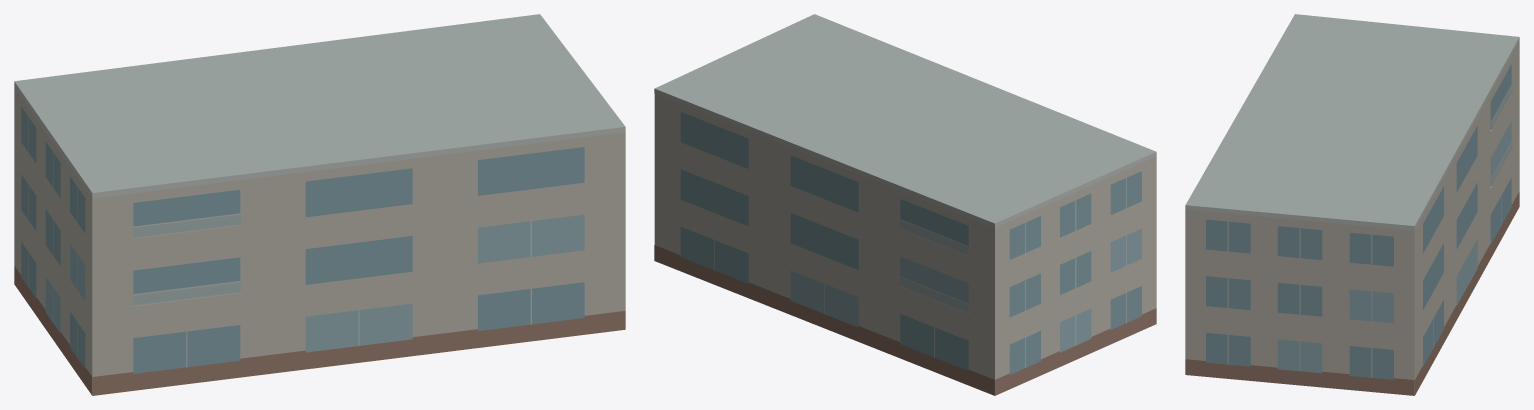
File: survey-upis-32868530.glb
3 renders of one model, left to right at view 1: azimuth 30°, elevation 25°; view 2: azimuth 150°, elevation 25°; view 3: azimuth 270°, elevation 25°, orthographic. The views are drawn at different scales.
Visible parts, largest first — view 1: survey-upis-32868530.tmp; view 2: survey-upis-32868530.tmp; view 3: survey-upis-32868530.tmp.
Boxes of the visible parts, bbox=[...] form: survey-upis-32868530.tmp: bbox=[14, 14, 625, 395]; survey-upis-32868530.tmp: bbox=[654, 14, 1156, 395]; survey-upis-32868530.tmp: bbox=[1185, 14, 1519, 395].
Size of the model in its own units: 24.52 by 9.15 by 16.33.
